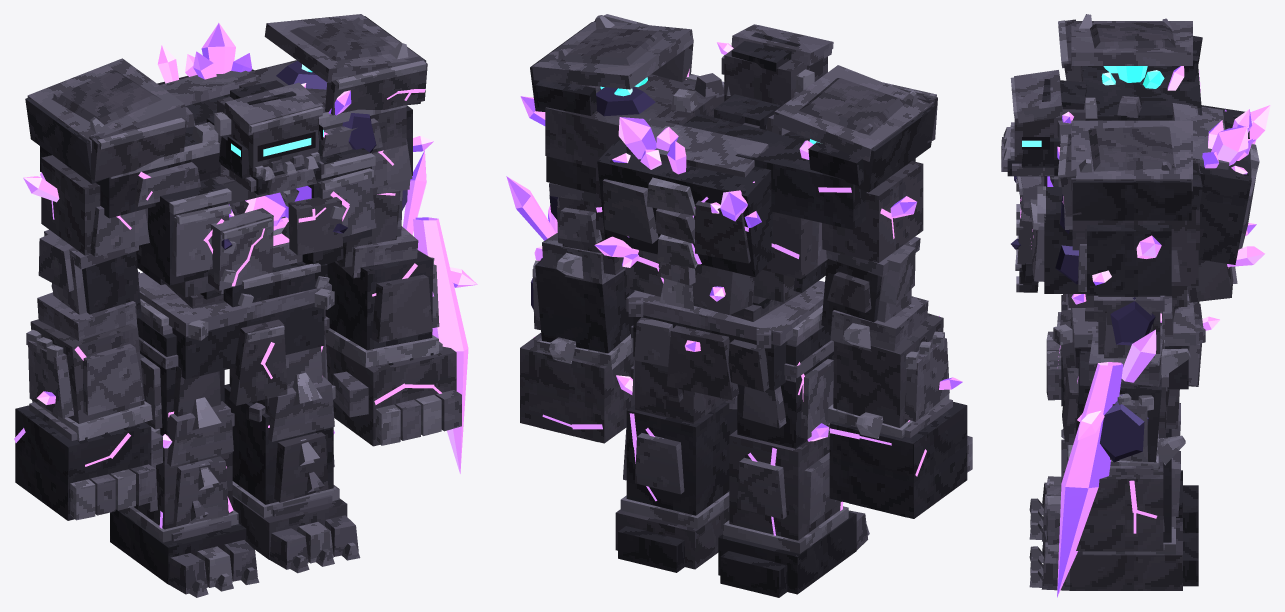
File: fmob_golem.glb
3 views of the same model, side by side, from view 1: azimuth 30°, elevation 25°; view 2: azimuth 150°, elevation 25°; view 3: azimuth 270°, elevation 25° (orthographic). The views are drawn at different scales.
Visible parts, largest first — view 1: fmob_golem, arm_r, arm_l, leg_fr, leg_fl, armor_r, armor_chest, armor_l, head, glow_shards, jaw, glow_cracks (+1 smaller); view 2: fmob_golem, arm_r, leg_fr, arm_l, leg_fl, armor_r, armor_l, head, glow_shards, glow_cracks; view 3: arm_l, fmob_golem, armor_l, leg_fl, armor_r, head, glow_shards, armor_chest, leg_fr, arm_r, weak_r, jaw.
Boxes of the visible parts, x1,y1,x2,y2 form: fmob_golem: (40, 60, 406, 405); arm_r: (14, 155, 162, 520); arm_l: (325, 105, 477, 473); leg_fr: (110, 318, 259, 597); leg_fl: (224, 309, 360, 573); armor_r: (25, 58, 186, 183); armor_chest: (208, 197, 347, 307); armor_l: (264, 14, 427, 115); head: (214, 80, 323, 178); glow_shards: (157, 23, 351, 115); jaw: (229, 156, 324, 194); glow_cracks: (138, 132, 349, 378); fmob_golem: (545, 73, 915, 400); arm_r: (821, 161, 972, 518); leg_fr: (718, 326, 869, 597); arm_l: (506, 96, 634, 443); leg_fl: (615, 325, 737, 572); armor_r: (773, 65, 937, 192); armor_l: (530, 14, 693, 115); head: (717, 24, 833, 106); glow_shards: (594, 69, 813, 351); glow_cracks: (596, 187, 851, 283); arm_l: (1046, 225, 1190, 597); fmob_golem: (1030, 65, 1259, 391); armor_l: (1058, 120, 1202, 220); leg_fl: (1029, 373, 1198, 590); armor_r: (1058, 14, 1202, 81); head: (1010, 70, 1086, 167); glow_shards: (1057, 66, 1270, 330); armor_chest: (1011, 176, 1042, 292); leg_fr: (1029, 403, 1198, 541); arm_r: (1046, 294, 1070, 406); weak_r: (1101, 66, 1164, 88); jaw: (1001, 127, 1058, 176).
Size of the model in its own units: 3.42 by 3.62 by 1.9.
Materials: 19 (4 with a texture image).
